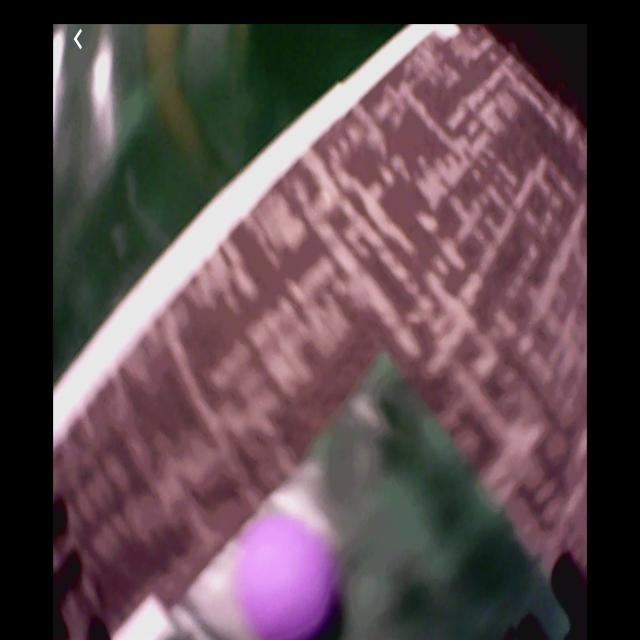ball: (247, 515, 343, 640)
